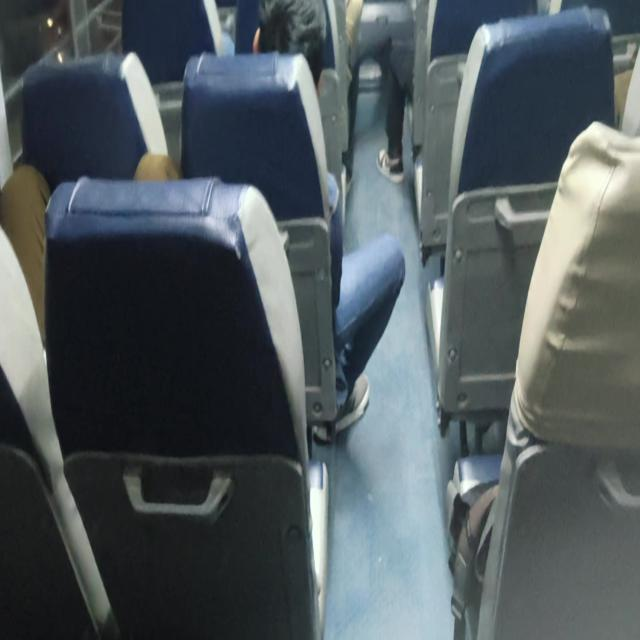person: (252, 0, 326, 94)
